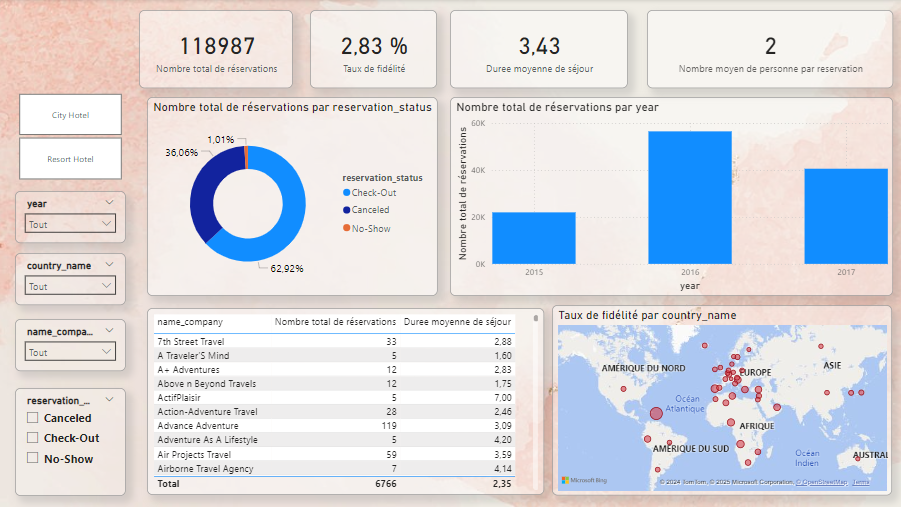

The page's visual inventory and layout, read from the dashboard file:
{"tool":"powerbi","page":{"name":"Page 1","canvas":[1280,720],"ordinal":0},"visuals":[{"type":"slicer","fields":{"Values":["Dim_Date.year"]},"box":[23.6,271.9,156.8,73.5],"z":2000},{"type":"slicer","fields":{"Values":["Dim_hotel_type.hotel"]},"box":[4.4,127.6,195,134.9],"z":3000},{"type":"slicer","fields":{"Values":["Dim_company.name_company"]},"box":[23.6,453.6,156.8,73.5],"z":6001},{"type":"slicer","fields":{"Values":["Dim_reservation_status.reservation_status"]},"box":[23.6,550.8,156.8,152.6],"z":6002},{"type":"card","fields":{"Values":["mesures.Nombre total de réservations"]},"box":[199.4,16.1,218.5,111.4],"z":6003},{"type":"slicer","fields":{"Values":["Dim_country.country_name"]},"box":[23.6,360.7,156.8,73.5],"z":6004},{"type":"card","fields":{"Values":["mesures.Taux de fidélité"]},"box":[442.8,16.1,180.3,111.4],"z":6005},{"type":"card","fields":{"Values":["mesures.Duree moyenne de séjour"]},"box":[640.7,16.1,252.2,111.4],"z":6006},{"type":"map","fields":{"Size":["mesures.Taux de fidélité"],"Category":["Dim_country.country_name"]},"box":[785.9,434,482.4,269.8],"z":6007},{"type":"donutChart","fields":{"Category":["Dim_reservation_status.reservation_status"],"Y":["mesures.Nombre total de réservations"]},"box":[211.1,139.3,412,281.5],"z":6008},{"type":"columnChart","fields":{"Category":["Dim_Date.year"],"Y":["mesures.Nombre total de réservations"]},"box":[640.7,139.3,627.5,281.5],"z":6009},{"type":"tableEx","fields":{"Values":["Dim_company.name_company","mesures.Nombre total de réservations","mesures.Duree moyenne de séjour"]},"box":[211.1,438.4,563,265.4],"z":6010},{"type":"card","fields":{"Values":["mesures.Nombre moyen de personne par reservation"]},"box":[919.3,16.1,349,111.4],"z":6011}]}

Visuals, with their boxes in screenshot pixels (x1, y1, x2, y2), scaled from the page's 1280x720 canvas onto the 901x507 screenshot:
slicer - Dim_Date.year: l=17, t=191, r=127, b=243
slicer - Dim_hotel_type.hotel: l=3, t=90, r=140, b=185
slicer - Dim_company.name_company: l=17, t=319, r=127, b=371
slicer - Dim_reservation_status.reservation_status: l=17, t=388, r=127, b=495
card - mesures.Nombre total de réservations: l=140, t=11, r=294, b=90
slicer - Dim_country.country_name: l=17, t=254, r=127, b=306
card - mesures.Taux de fidélité: l=312, t=11, r=439, b=90
card - mesures.Duree moyenne de séjour: l=451, t=11, r=629, b=90
map - mesures.Taux de fidélité x Dim_country.country_name: l=553, t=306, r=893, b=496
donutChart - Dim_reservation_status.reservation_status x mesures.Nombre total de réservations: l=149, t=98, r=439, b=296
columnChart - Dim_Date.year x mesures.Nombre total de réservations: l=451, t=98, r=893, b=296
tableEx - Dim_company.name_company x mesures.Nombre total de réservations: l=149, t=309, r=545, b=496
card - mesures.Nombre moyen de personne par reservation: l=647, t=11, r=893, b=90
